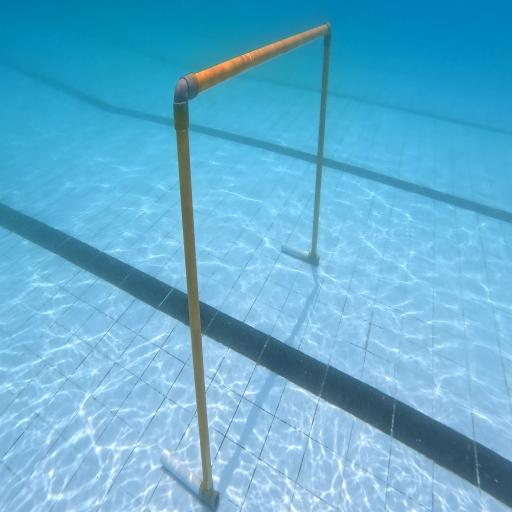gate: (162, 23, 332, 512)
